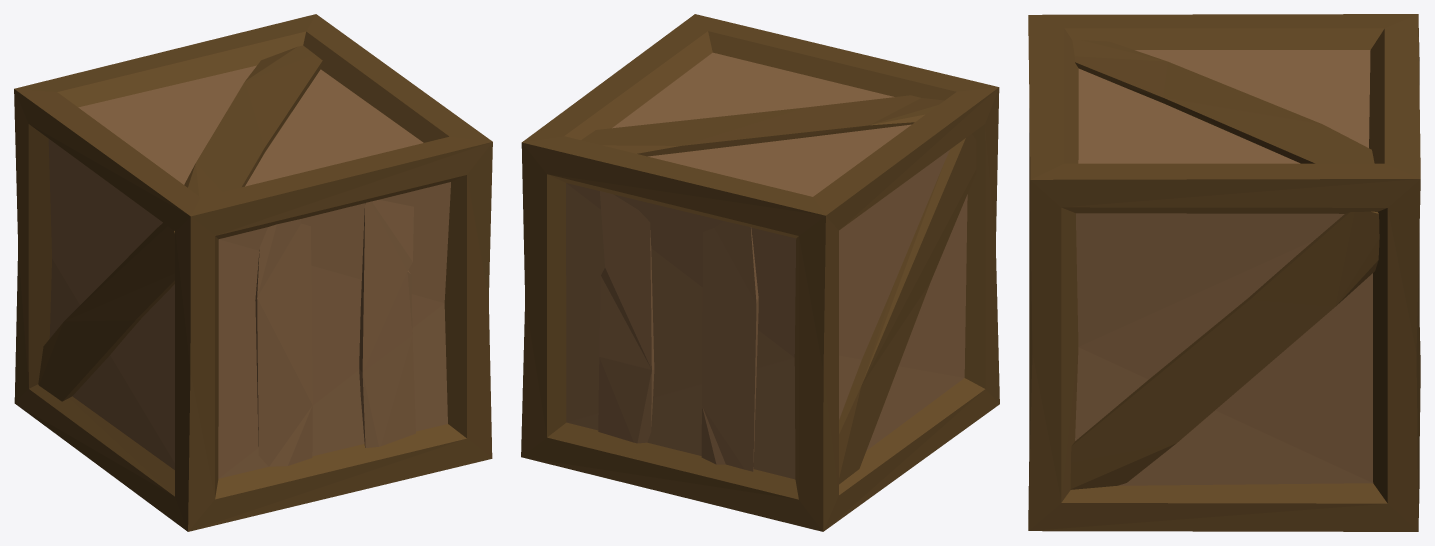
3 views of the same model, side by side, from view 1: azimuth 30°, elevation 25°; view 2: azimuth 150°, elevation 25°; view 3: azimuth 270°, elevation 25° (orthographic). The views are drawn at different scales.
Parts seen in each view (by area): view 1: Box; view 2: Box; view 3: Box.
Boxes of the visible parts, x1,y1,x2,y2 form: Box: (14, 14, 492, 531); Box: (521, 14, 999, 531); Box: (1028, 14, 1420, 531).
Bounding box in the file's own units: 0.7512 × 0.7477 × 0.7513.
